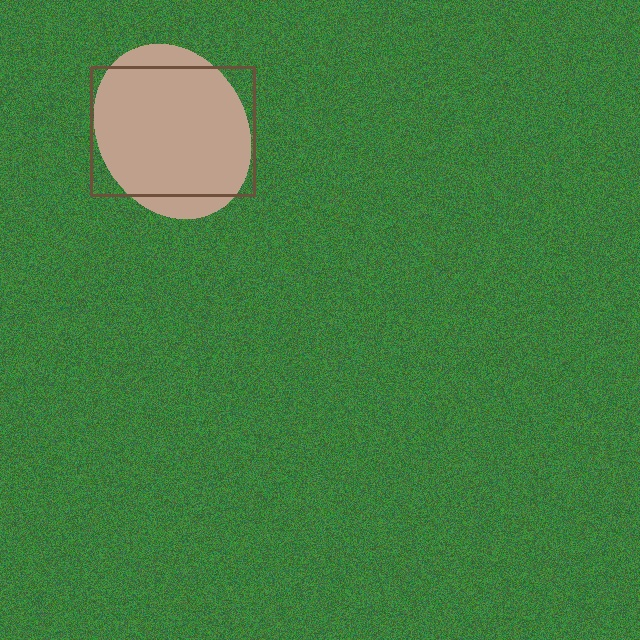corn borer: (81, 57, 264, 205)
